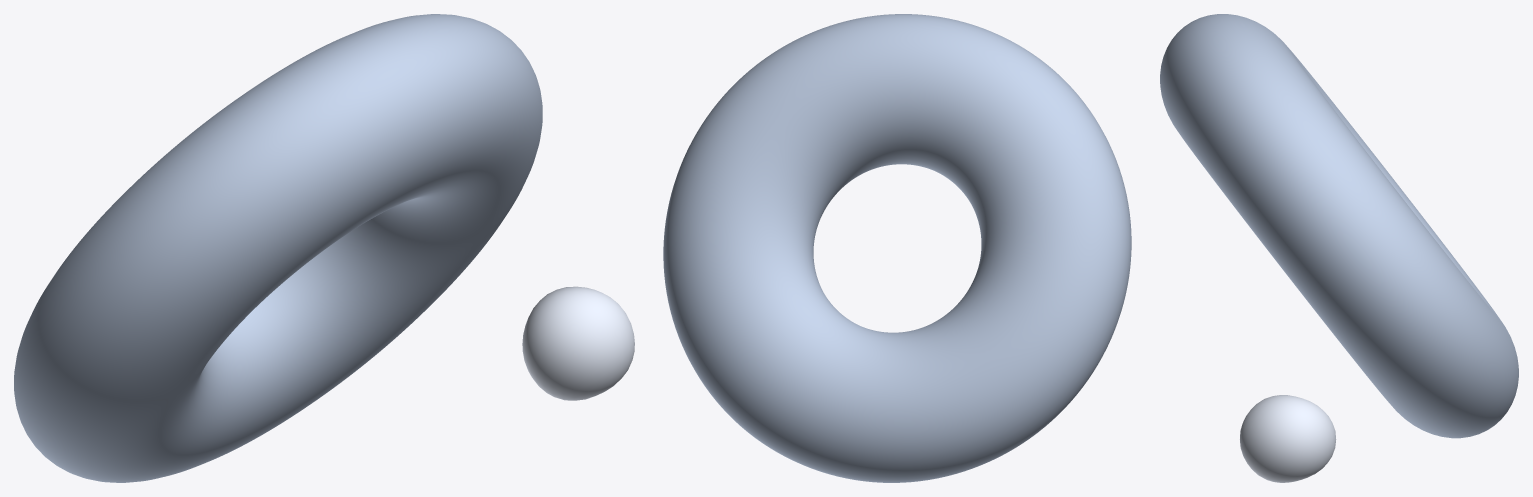
Rendered from torus-silver.glb.
3 renders of one model, left to right at view 1: azimuth 30°, elevation 25°; view 2: azimuth 150°, elevation 25°; view 3: azimuth 270°, elevation 25°, orthographic. The views are drawn at different scales.
Visible parts, largest first — view 1: ring, bead; view 2: ring; view 3: ring, bead.
Boxes of the visible parts, left/top/right/bottom form: ring: left=14, top=14, right=542, bottom=482; bead: left=522, top=286, right=634, bottom=400; ring: left=663, top=14, right=1131, bottom=482; ring: left=1160, top=14, right=1518, bottom=438; bead: left=1240, top=395, right=1336, bottom=482.
Bounding box in the file's own units: 1.87 × 1.53 × 1.25.
